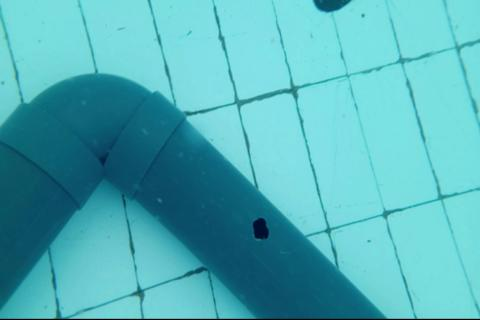kebocoran: (251, 216, 271, 242)
